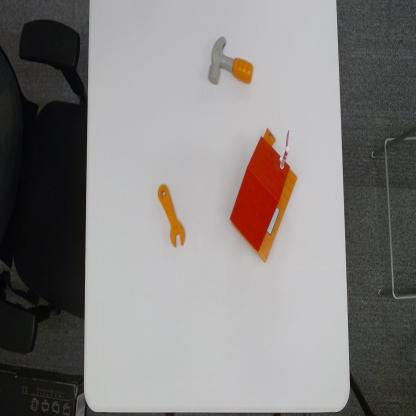Hammer: (207, 34, 255, 90)
House: (228, 125, 298, 264)
Screwdriver: (156, 182, 186, 248)
